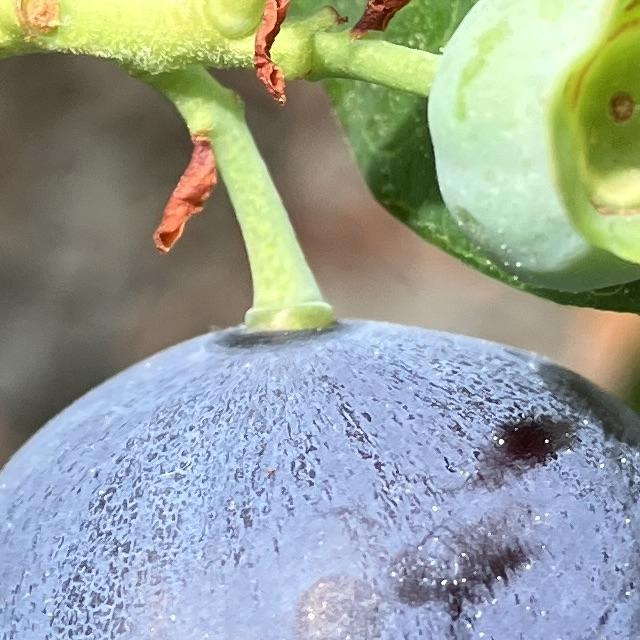Blueberries: (0, 305, 640, 640)
